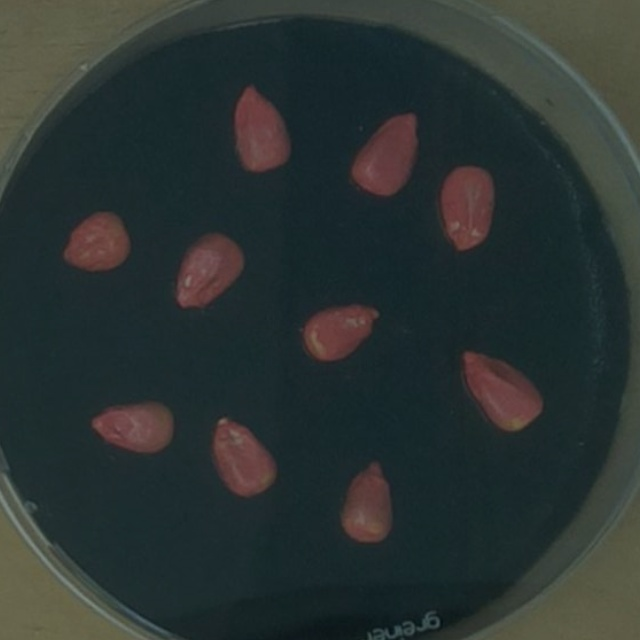Zea mays: (451, 341, 552, 438), (341, 103, 427, 205), (166, 223, 252, 318), (222, 72, 299, 177), (205, 407, 286, 504), (431, 154, 503, 260), (332, 451, 402, 551), (295, 293, 386, 369), (83, 391, 183, 460), (54, 199, 137, 278)
